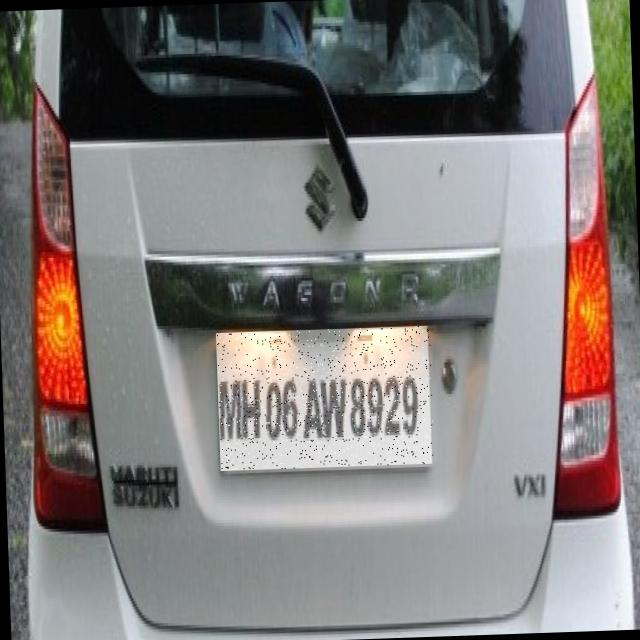Plate: (217, 327, 436, 472)
